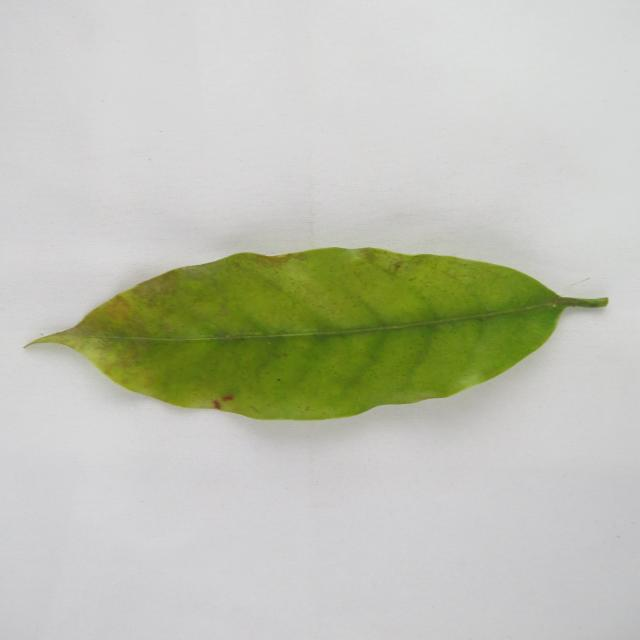DeficienciaNutricional-Nitrogeno: (32, 248, 607, 420)
